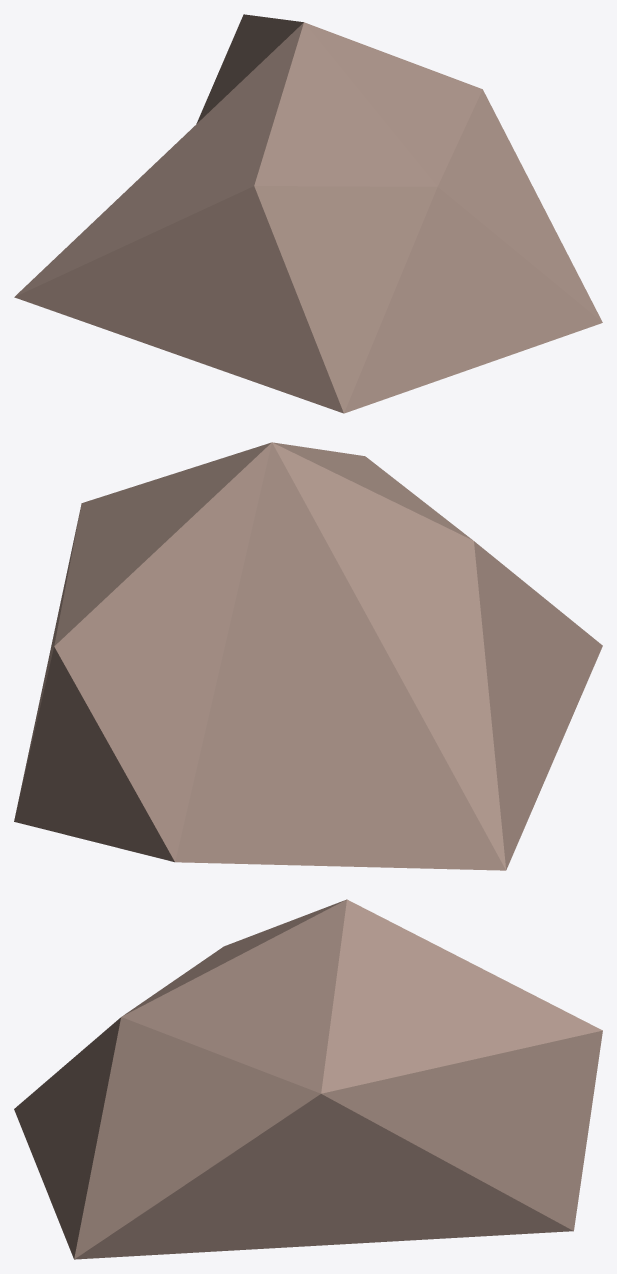
File: Rock2.fbx
3 renders of one model, top to bottom at view 1: azimuth 30°, elevation 25°; view 2: azimuth 150°, elevation 25°; view 3: azimuth 270°, elevation 25°, orthographic. The views are drawn at different scales.
Parts seen in each view (by area): view 1: rock_GEO3; view 2: rock_GEO3; view 3: rock_GEO3.
Part boxes in pixels (left/top/right/bottom): rock_GEO3: left=14, top=14, right=602, bottom=413; rock_GEO3: left=14, top=442, right=602, bottom=870; rock_GEO3: left=14, top=899, right=602, bottom=1259.
Size of the model in its own units: 22.58 by 13.43 by 25.9.
